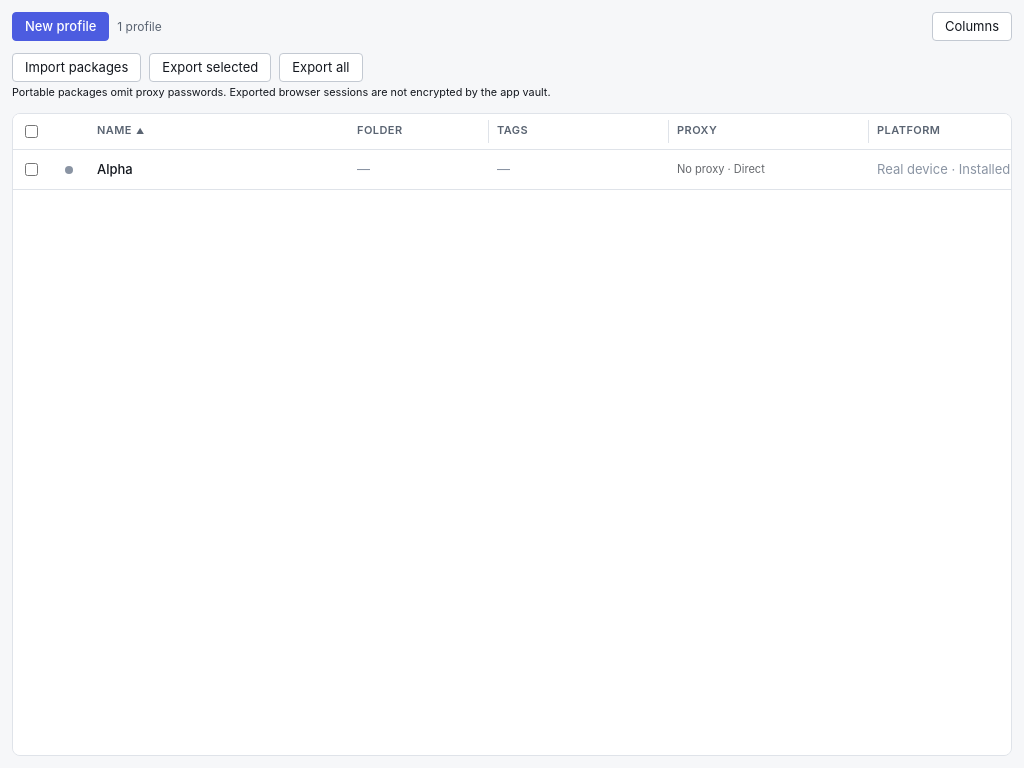
Scenario: edits tags without replacing unrelated organization fields
This screenshot has width=1024, height=768.
Step 1. Right-click the button "Alpha" → (115, 169), box [97,160,133,178]
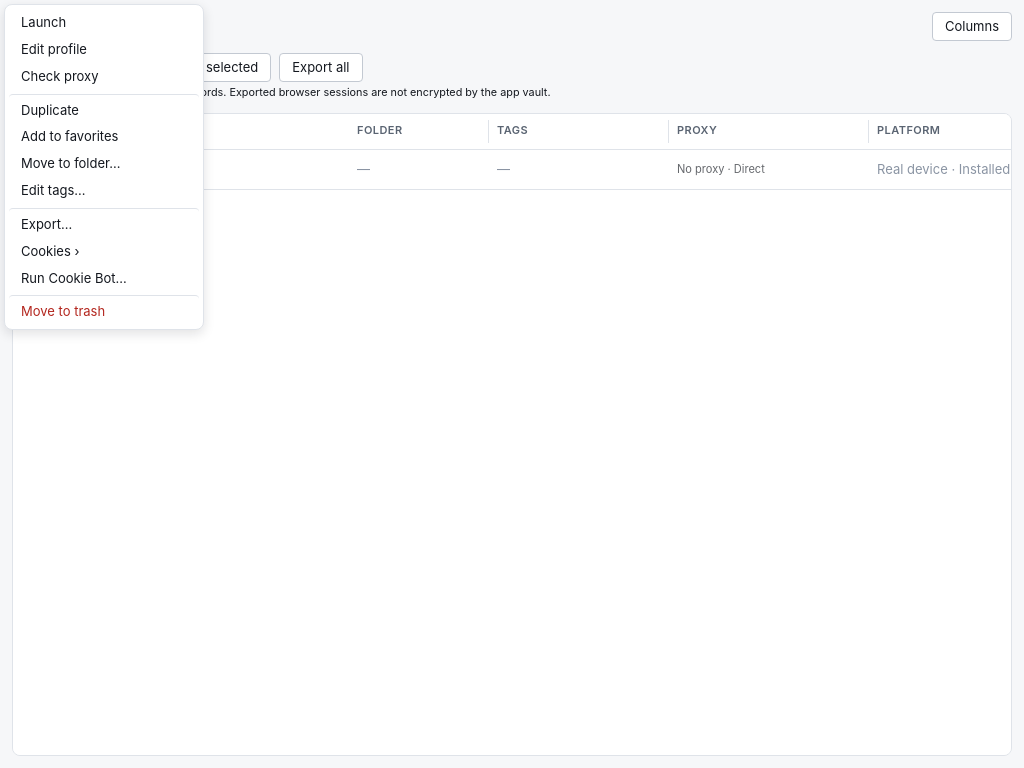
Step 2. Click the menu item "Edit tags…" → (104, 190), box [9,177,199,204]
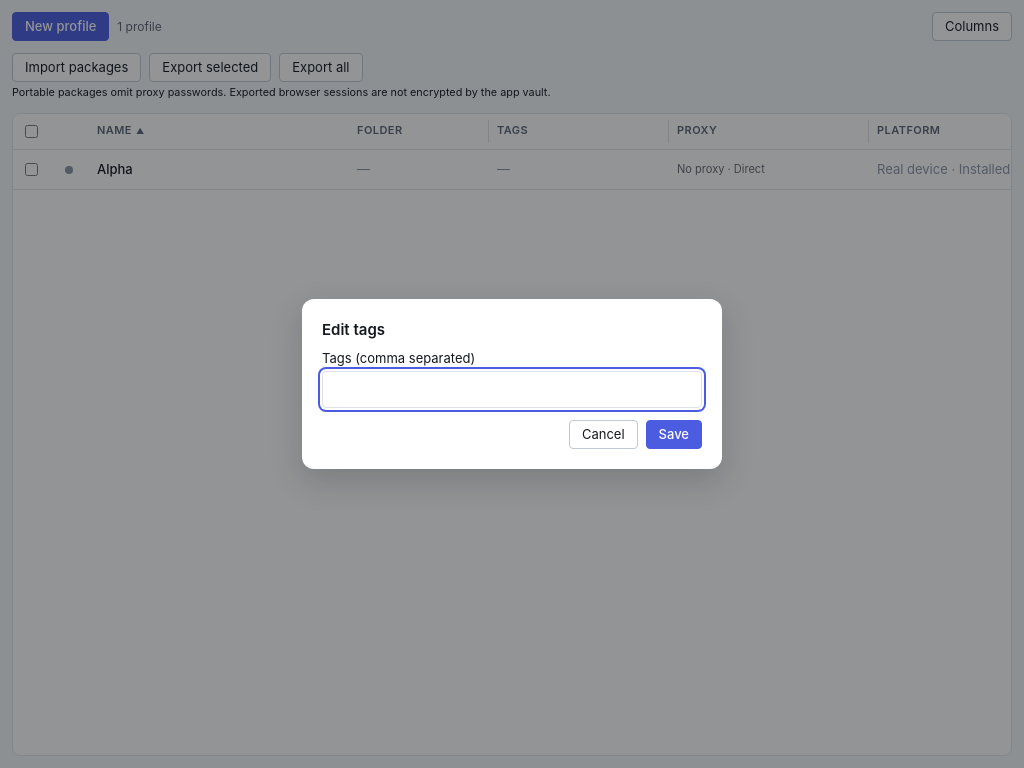
Step 3. Type " work, EU, work " into the field labelled "Tags (comma separated)" → (512, 390), box [322,372,702,408]
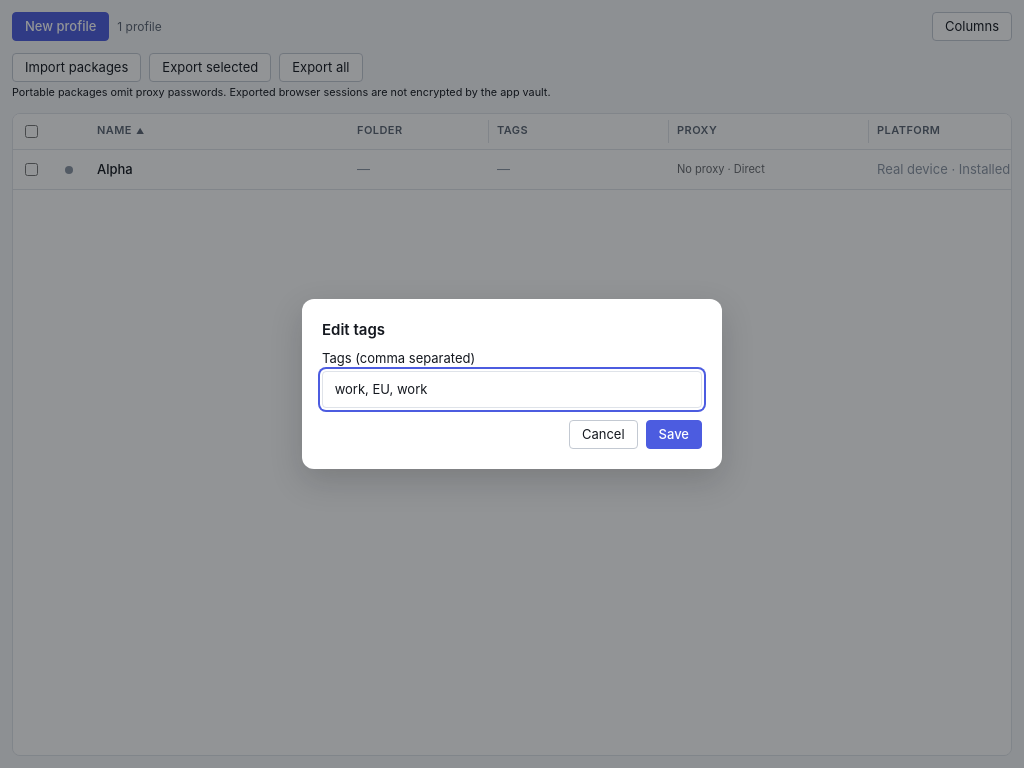
Step 4. Click the button "Save" → (674, 435), box [646,420,702,449]
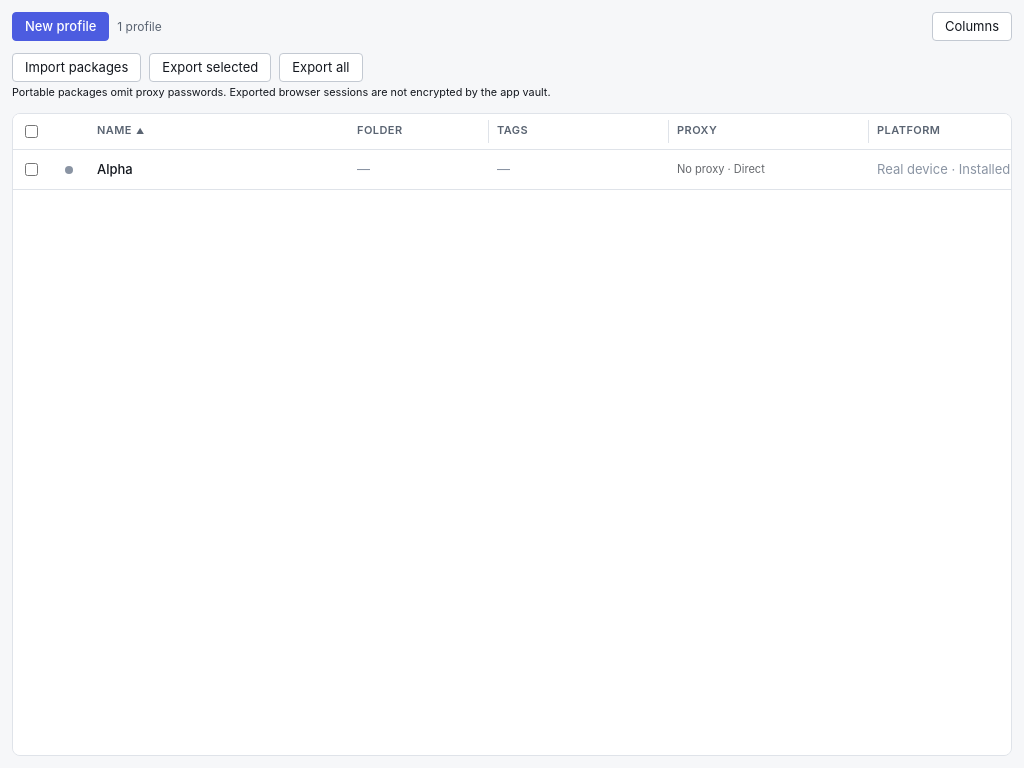
Now the dialog is gone
